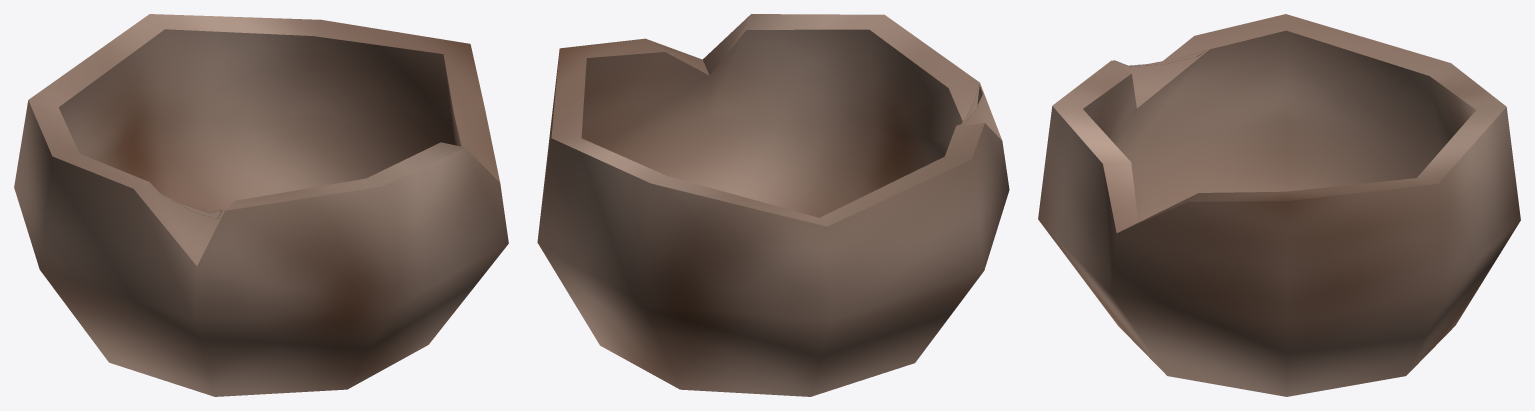
The model's file is KırıkKase.fbx.
3 renders of one model, left to right at view 1: azimuth 30°, elevation 25°; view 2: azimuth 150°, elevation 25°; view 3: azimuth 270°, elevation 25°, orthographic. The views are drawn at different scales.
Parts seen in each view (by area): view 1: Cylinder.002; view 2: Cylinder.002; view 3: Cylinder.002.
Part boxes in pixels (x1,y1,x2,y2): Cylinder.002: (14, 14, 508, 396); Cylinder.002: (537, 14, 1009, 396); Cylinder.002: (1038, 14, 1520, 396).
Size of the model in its own units: 0.4451 by 0.2214 by 0.4336.
Materials: 1 (1 with a texture image).
